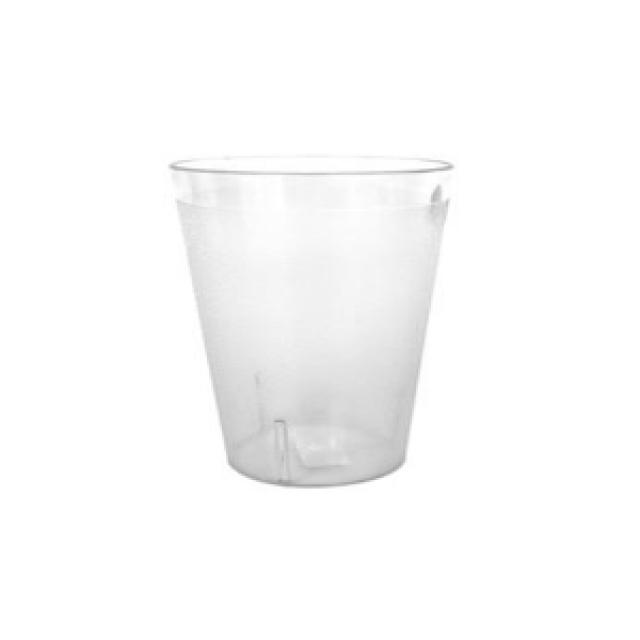plastic cup: (160, 132, 467, 497)
